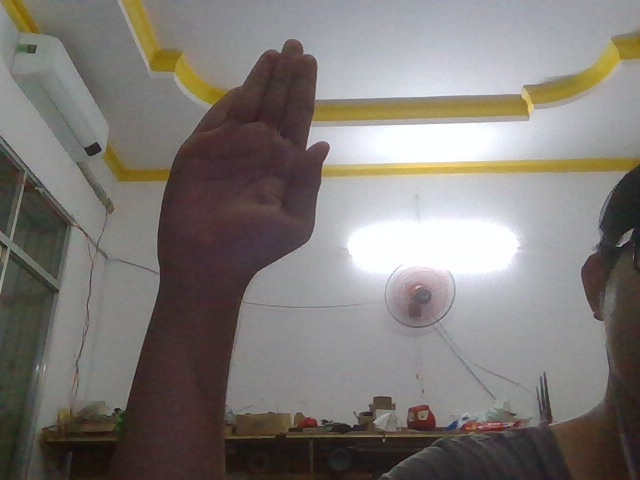stop: (149, 19, 341, 292)
